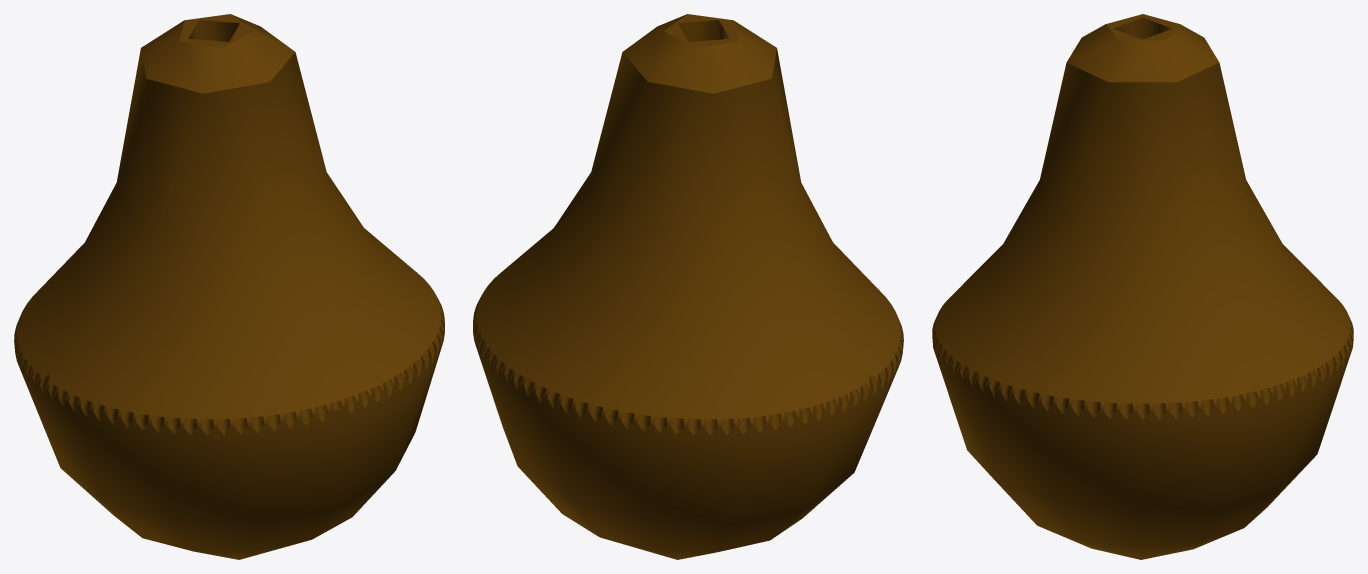
Rendered from Poid petite detente_Heures.obj.
The picture shows the model from 3 angles, left to right: view 1: azimuth 30°, elevation 25°; view 2: azimuth 150°, elevation 25°; view 3: azimuth 270°, elevation 25°; orthographic projection. The views are drawn at different scales.
Visible parts, largest first — view 1: Face_2, Face_83, Face_81, Face_82, Face_166; view 2: Face_2, Face_83, Face_81, Face_82, Face_166; view 3: Face_2, Face_83, Face_81, Face_82, Face_166.
Part boxes in pixels (bbox=[...]): Face_2: bbox=[17, 49, 441, 419]; Face_83: bbox=[15, 328, 444, 559]; Face_81: bbox=[141, 14, 294, 93]; Face_82: bbox=[179, 14, 253, 47]; Face_166: bbox=[188, 20, 239, 41]; Face_2: bbox=[476, 49, 900, 419]; Face_83: bbox=[473, 328, 902, 559]; Face_81: bbox=[623, 14, 776, 93]; Face_82: bbox=[664, 14, 738, 47]; Face_166: bbox=[678, 20, 729, 41]; Face_2: bbox=[935, 62, 1350, 403]; Face_83: bbox=[932, 338, 1353, 559]; Face_81: bbox=[1066, 24, 1219, 82]; Face_82: bbox=[1106, 14, 1179, 40]; Face_166: bbox=[1114, 18, 1171, 39].
Size of the model in its own units: 0.0215 by 0.0282 by 0.0215.
